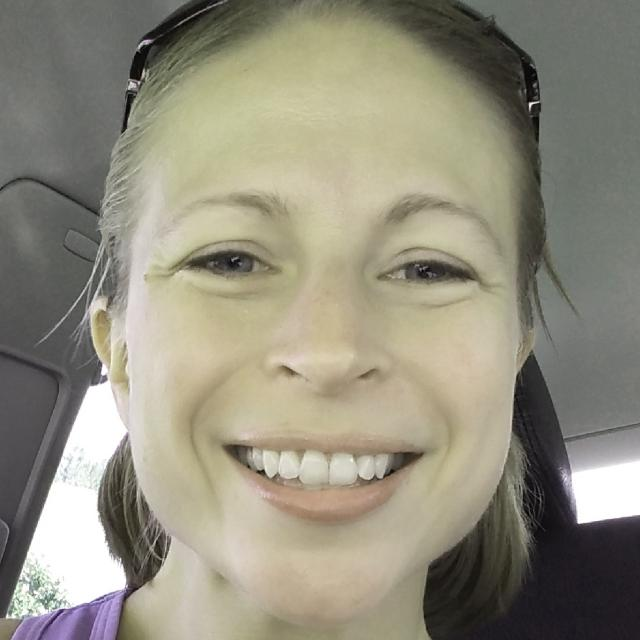Normal: (127, 14, 518, 623)
